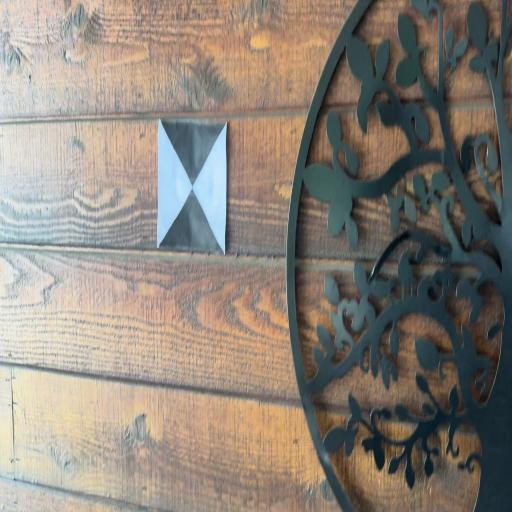target: (158, 118, 226, 252)
